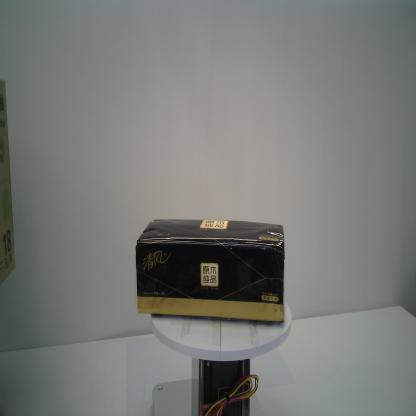Tissue: (133, 216, 286, 324)
